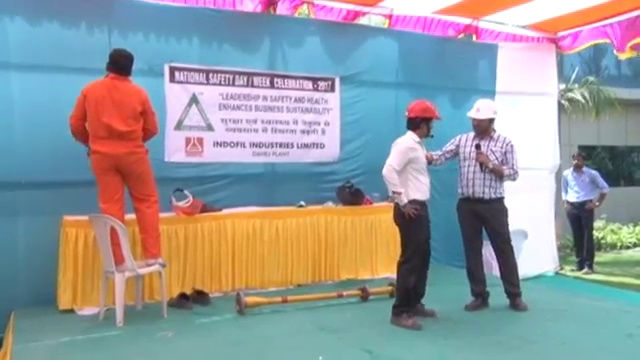helmet: (403, 97, 444, 122), (464, 97, 499, 121)
helmet_off: (105, 46, 135, 79), (569, 152, 585, 171)
helmet_on: (403, 97, 444, 140), (463, 97, 499, 137)
person: (69, 46, 168, 269), (428, 97, 529, 313), (378, 98, 437, 330), (559, 152, 608, 279)
